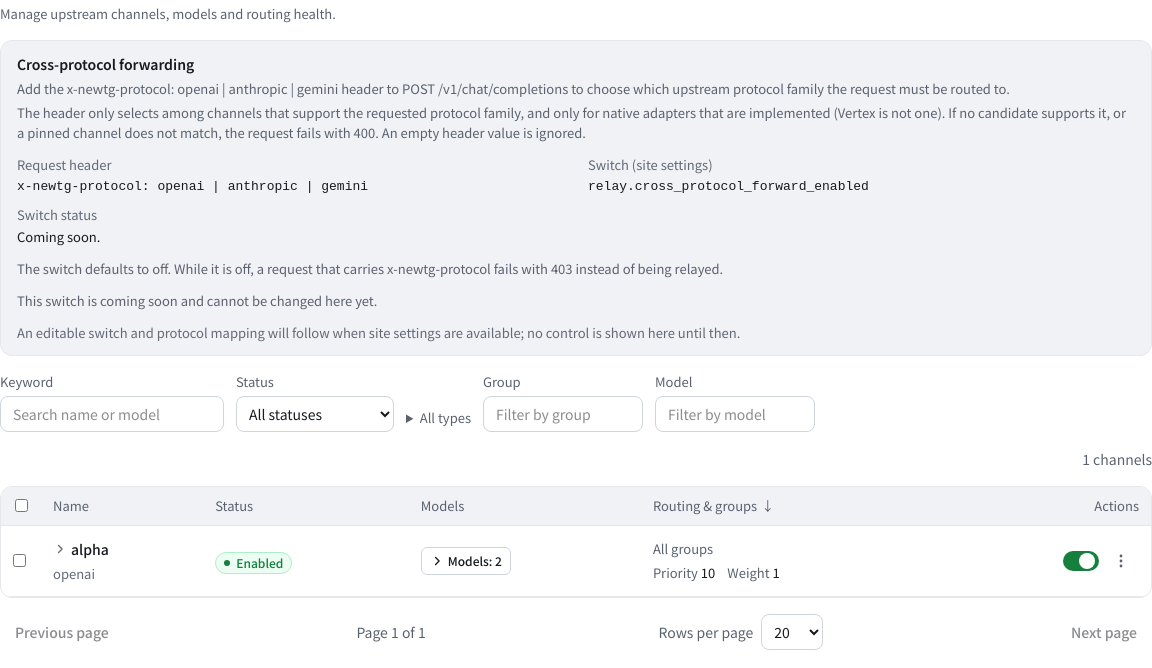
Test: ChannelListPage metrics overview › loads the trend panel when the row is expanded
The image size is (1152, 668).
Click the button with aria-label "Expand details for alpha" at (90,549), box [71, 538, 109, 560]
(page scrolled)
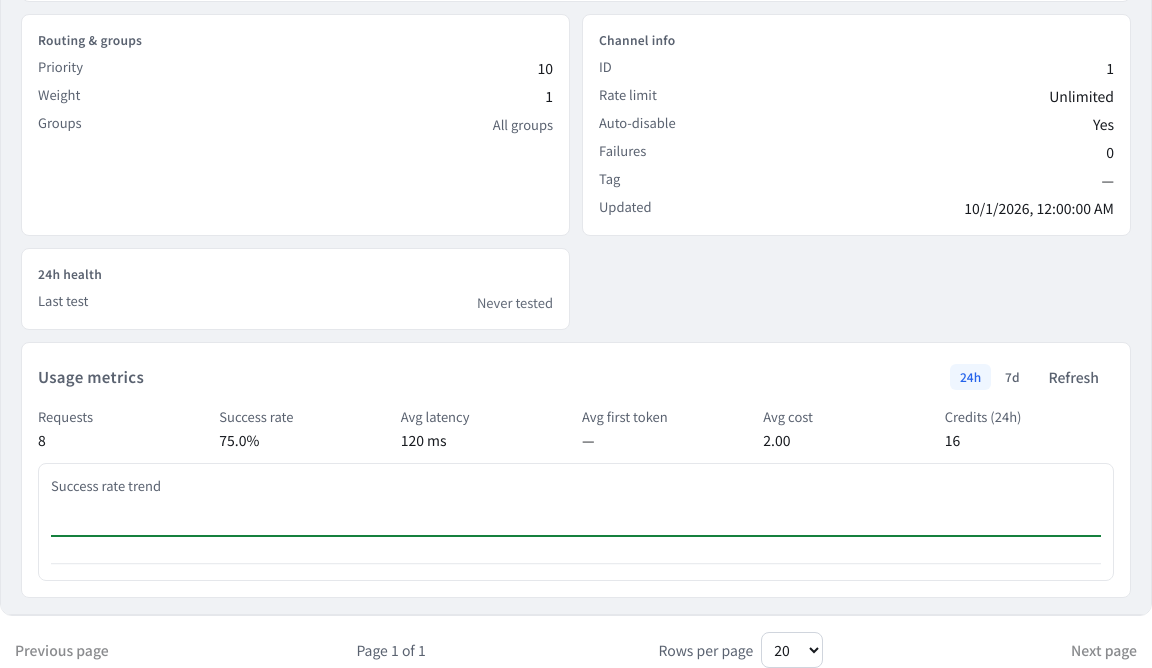
Check: the heading "Usage metrics" is shown, box [38, 366, 144, 388]
Check: the picture with test id "channel-metrics-sparkline" is shown, box [51, 504, 1101, 568]
Check: the tab "24h" is shown, box [950, 364, 991, 390]
